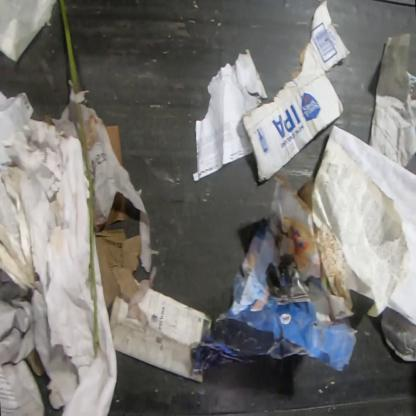cardboard: (243, 3, 350, 183), (269, 172, 355, 323), (95, 228, 143, 308), (104, 191, 128, 228), (104, 124, 122, 168)
